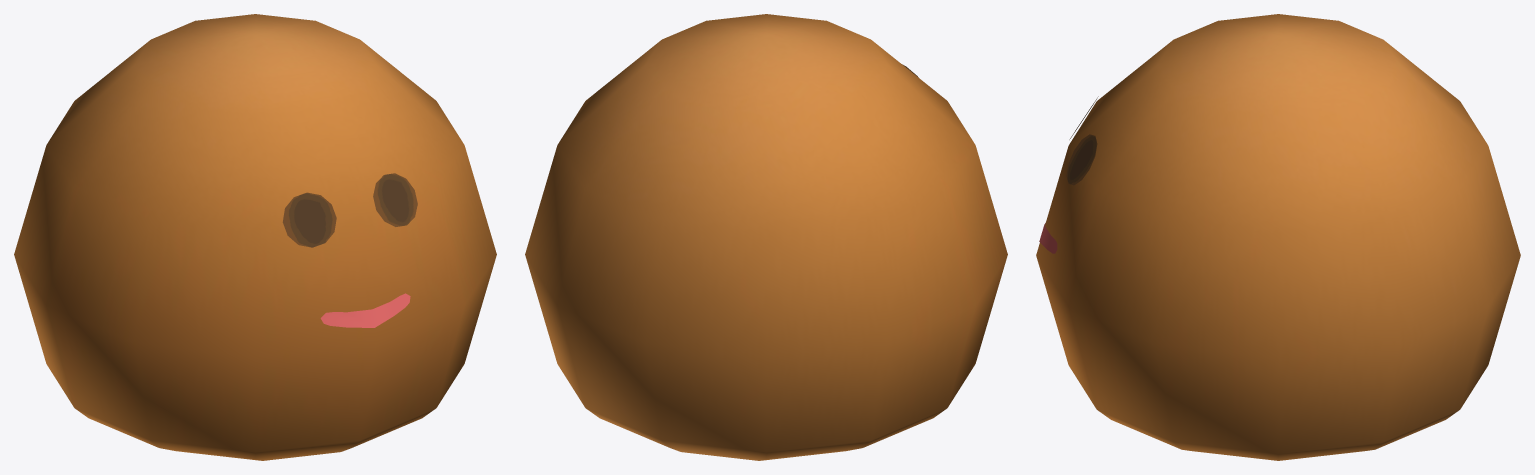
The model's file is 小饅頭餅乾.fbx.
3 views of the same model, side by side, from view 1: azimuth 30°, elevation 25°; view 2: azimuth 150°, elevation 25°; view 3: azimuth 270°, elevation 25° (orthographic).
Visible parts, largest first — view 1: 圓柱體.001, 眼睛, 眼睛.001, 嘴巴; view 2: 圓柱體.001; view 3: 圓柱體.001, 眼睛.001.
Boxes of the visible parts, x1=… form: 圓柱體.001: x1=14, y1=14, x2=496, y2=460; 眼睛: x1=282, y1=192, x2=336, y2=247; 眼睛.001: x1=373, y1=173, x2=417, y2=226; 嘴巴: x1=320, y1=293, x2=410, y2=327; 圓柱體.001: x1=525, y1=14, x2=1007, y2=460; 圓柱體.001: x1=1036, y1=14, x2=1520, y2=460; 眼睛.001: x1=1066, y1=134, x2=1097, y2=185.
Size of the model in its own units: 100 by 100 by 82.28.
4 materials, 4 textured.
